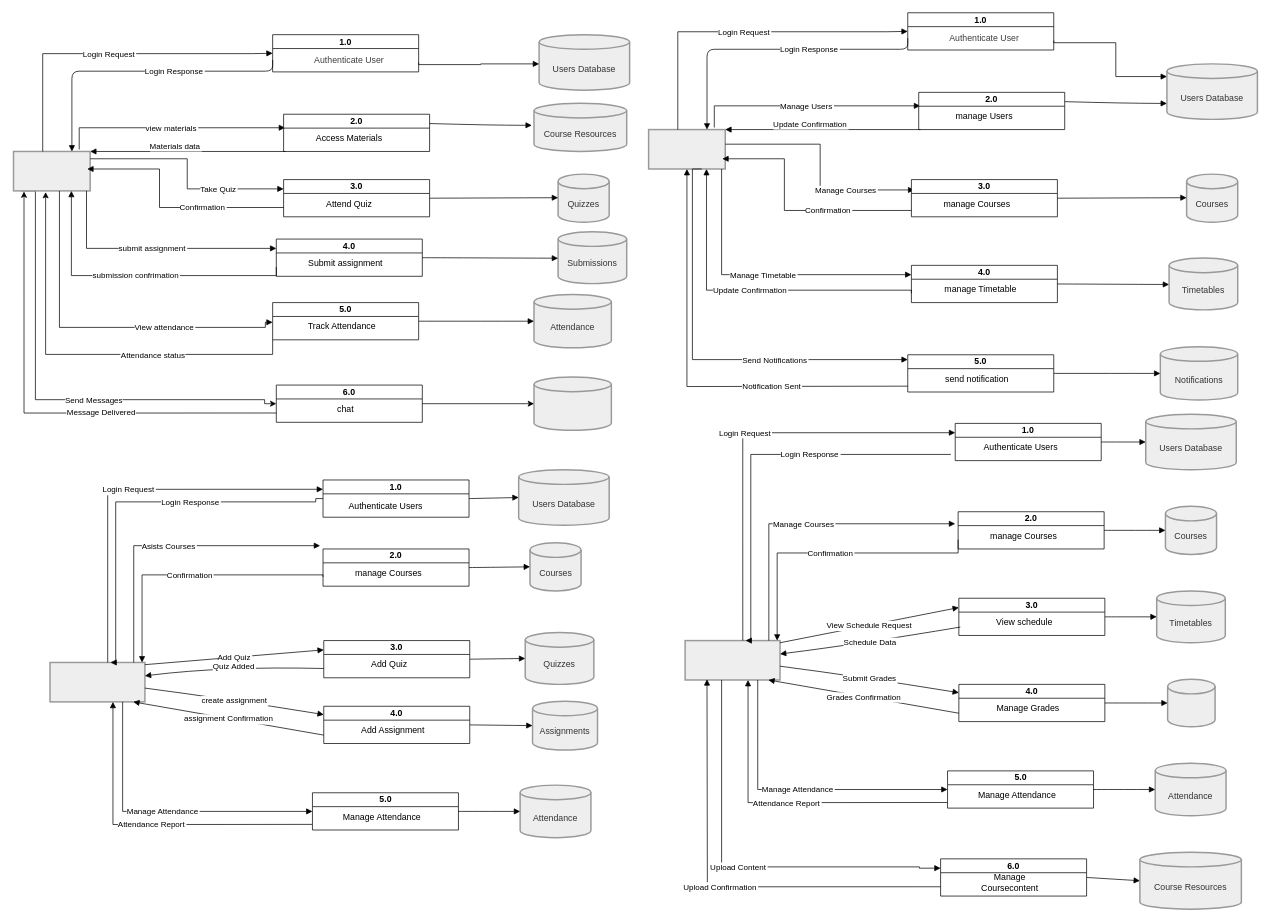
The diagram is 1270 pixels wide and 923 high, and some of its shapes have lost their labels. The shapes that lost their labels are listed below. From the top down, each one's centre as x and y in pixels, then its label:
At (x=687, y=148): "Admin".
At (x=51, y=170): "Student".
At (x=572, y=403): "Messages".
At (x=732, y=659): "Instructor".
At (x=97, y=681): "TA".
At (x=1191, y=702): "Grades".
